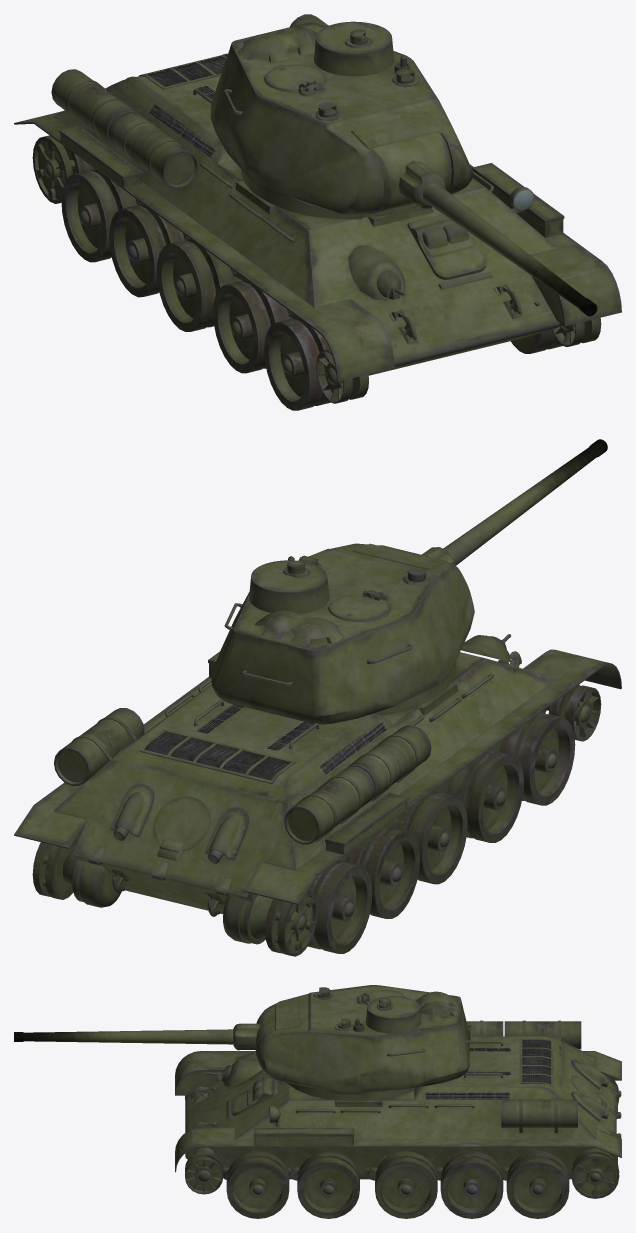
3 views of the same model, one above another, from view 1: azimuth 30°, elevation 25°; view 2: azimuth 150°, elevation 25°; view 3: azimuth 270°, elevation 25° (orthographic). The views are drawn at different scales.
Visible parts, largest first — view 1: Wanne, turret, radL3, cannon, radL4, radL5, radL1, radL2, radL0, radL6, radR6, radR5; view 2: Wanne, turret, radL4, radL5, radL1, radL0, radL2, radL3, radR0, cannon, radL6; view 3: Wanne, turret, radR2, radR1, radR5, radR3, radR4, cannon, radR0, radR6.
Boxes of the visible parts, <box> form: Wanne: <box>14,14,621,381</box>; turret: <box>210,21,474,219</box>; radL3: <box>156,238,242,331</box>; cannon: <box>399,161,597,316</box>; radL4: <box>213,280,292,373</box>; radL5: <box>264,317,330,410</box>; radL1: <box>61,169,142,262</box>; radL2: <box>109,204,189,297</box>; radL0: <box>32,135,94,203</box>; radL6: <box>316,348,368,403</box>; radR6: <box>552,317,601,346</box>; radR5: <box>511,329,562,353</box>; Wanne: <box>14,634,621,916</box>; turret: <box>211,543,474,724</box>; radL4: <box>447,749,523,842</box>; radL5: <box>499,712,575,805</box>; radL1: <box>307,860,372,953</box>; radL0: <box>223,890,317,956</box>; radL2: <box>344,825,419,918</box>; radL3: <box>392,791,467,884</box>; radR0: <box>32,842,122,907</box>; cannon: <box>421,439,607,565</box>; radL6: <box>545,684,601,741</box>; Wanne: <box>175,1020,621,1180</box>; turret: <box>255,985,471,1101</box>; radR2: <box>440,1151,503,1218</box>; radR1: <box>506,1151,569,1218</box>; radR5: <box>226,1151,291,1218</box>; radR3: <box>375,1151,437,1218</box>; radR4: <box>297,1151,359,1218</box>; cannon: <box>14,1023,260,1050</box>; radR0: <box>571,1148,619,1198</box>; radR6: <box>185,1147,223,1194</box>.
Bounding box in the file's own units: 3 × 2.69 × 8.05.
1 material, 1 textured.
